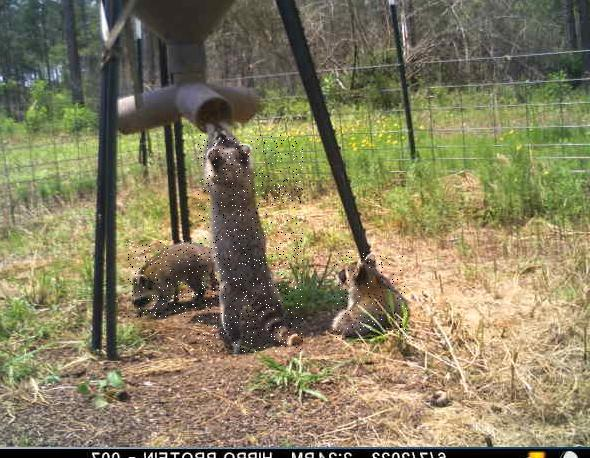Raccoon: (197, 135, 302, 352), (127, 241, 211, 318), (333, 252, 408, 338)
